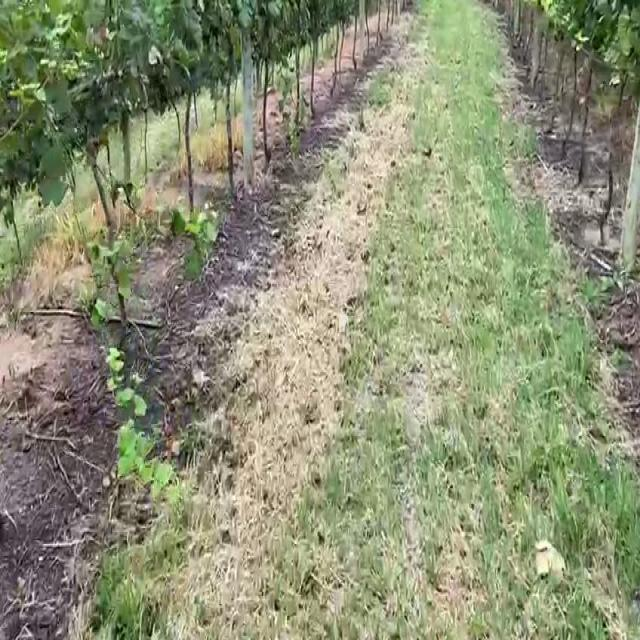tree trunk: (620, 104, 640, 269), (241, 27, 253, 190), (185, 91, 193, 213)
